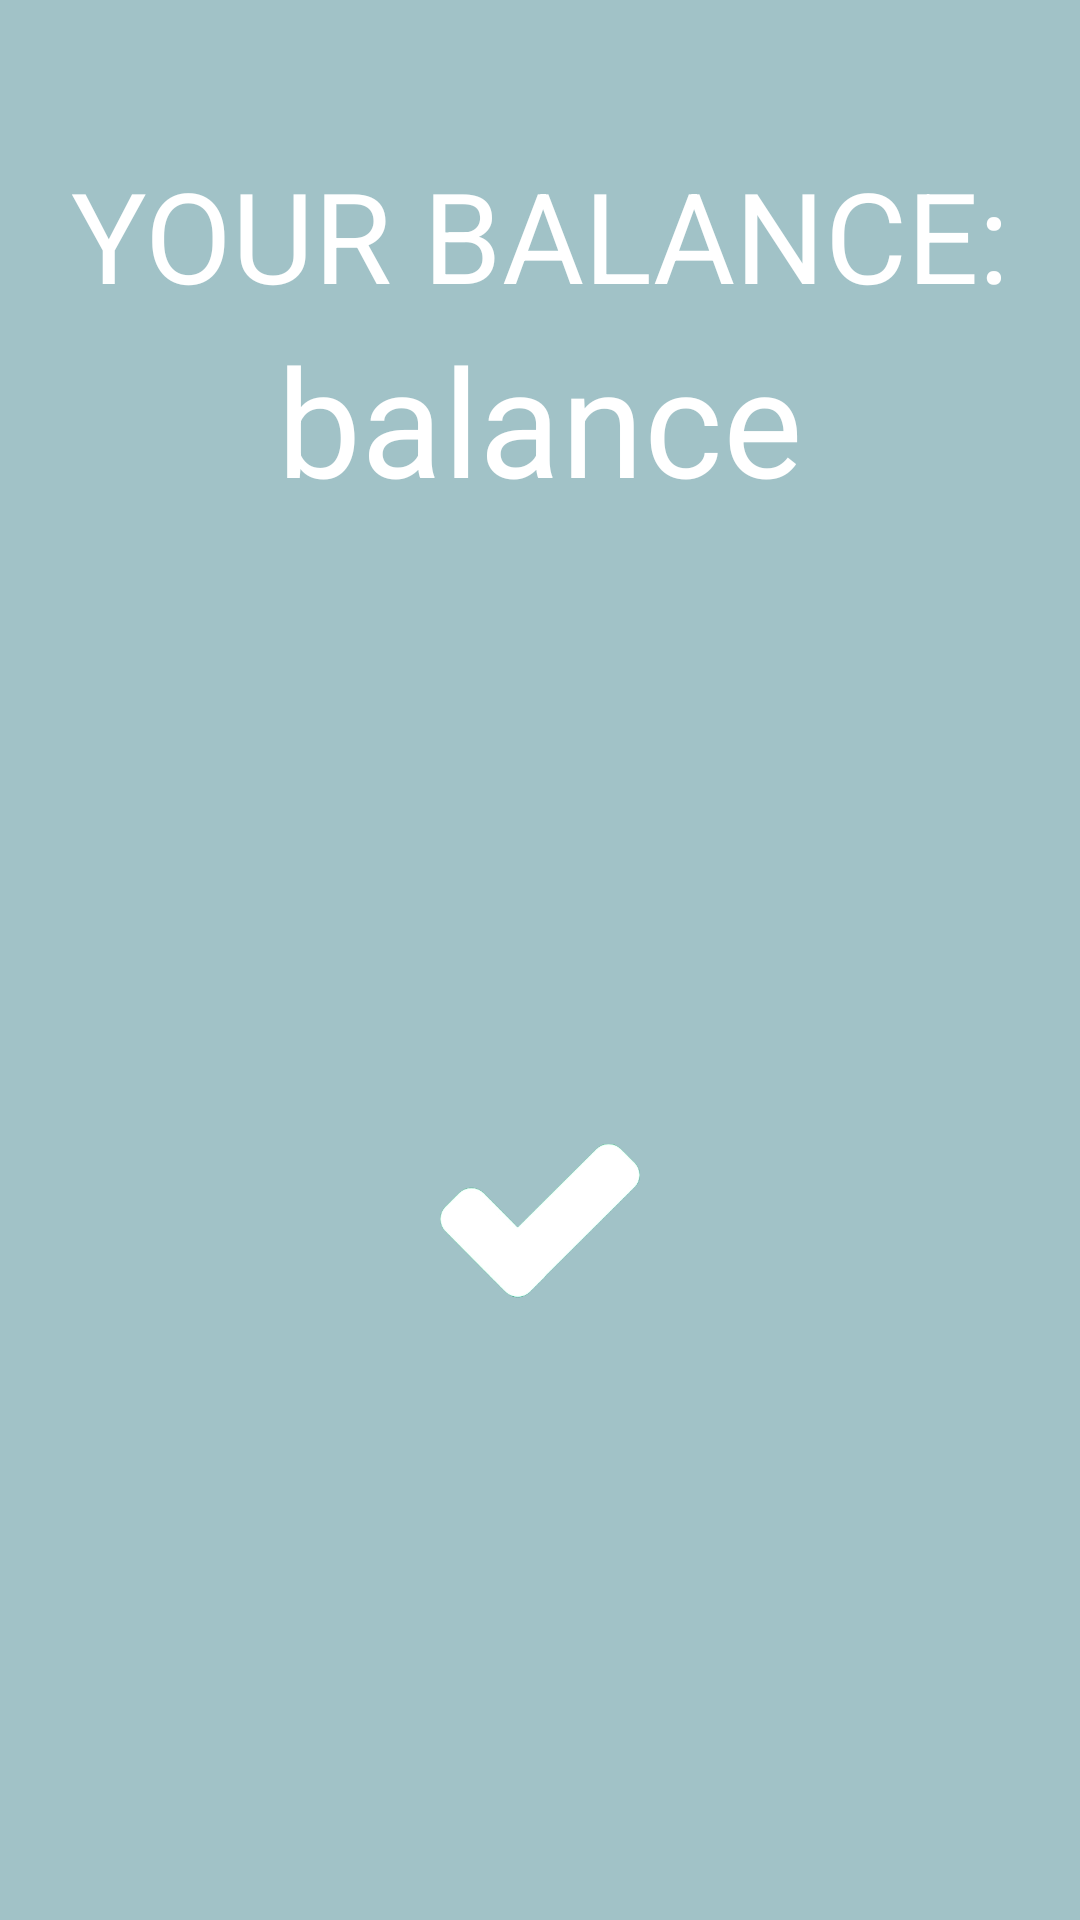

Point at icon controls on the screen. Image size 1080px x 1920px, points as point (x, y).
check: point (540, 1221)
